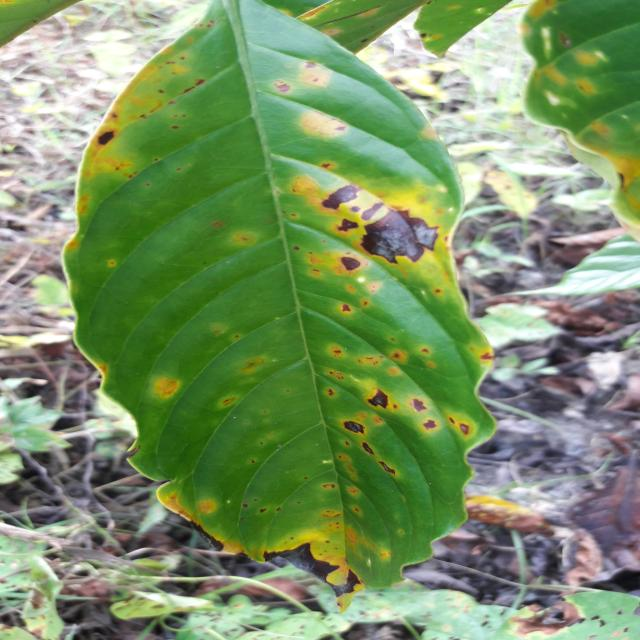Enfermedad-Roya: (62, 0, 497, 593)
